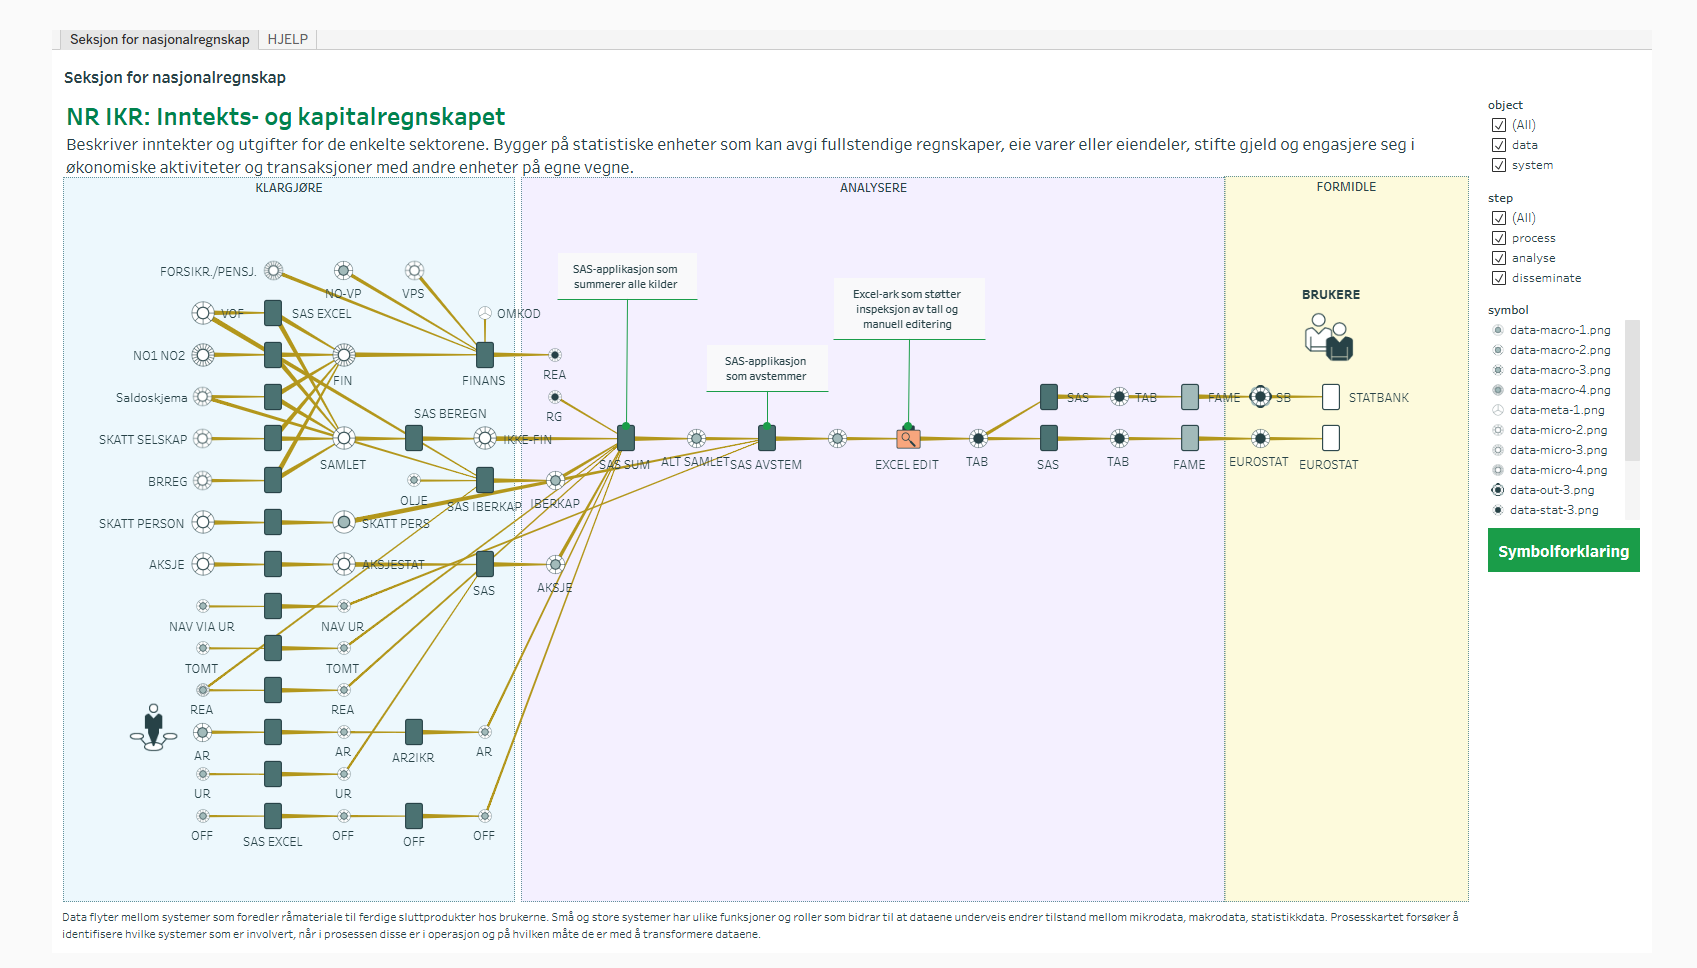

The page's visual inventory and layout, read from the dashboard file:
{"tool":"tableau","page":{"name":"HJELP","canvas":[1600,900],"ordinal":0},"visuals":[{"type":"image","param":"Image/Dataflyt malobjekter.png","box":[0,0,1600,900]}]}

Visuals, with their boxes on the page's 1600x900 design canvas (x1, y1, x2, y2). These are canvas units, not pixel positions in the 1697x968 screenshot, which may show the page scaled, cropped or inside an application window:
image: bbox=(0, 0, 1600, 900)
